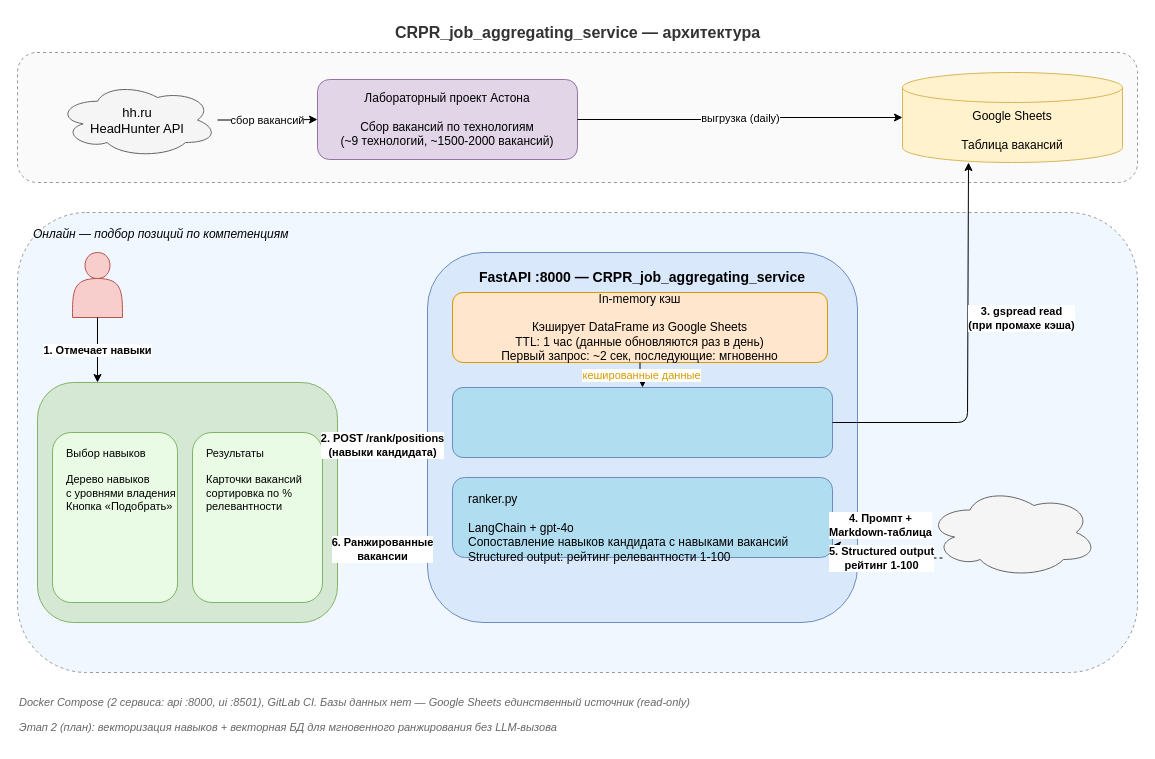
This 1155x759 diagram has some shape labels left out. Here are the shapes that lost their labels. From the top down, the box of each, then its label:
(16, 52, 1138, 182): Офлайн — сбор вакансий (раз в день)
(72, 252, 122, 318): Сотрудник Астона
(452, 386, 832, 458): services.py Чтение вакансий из Google Sheets через gspread pandas DataFrame
(36, 382, 338, 622): Streamlit UI :8501
(926, 486, 1098, 578): OpenAI API gpt-4o (structured output)
